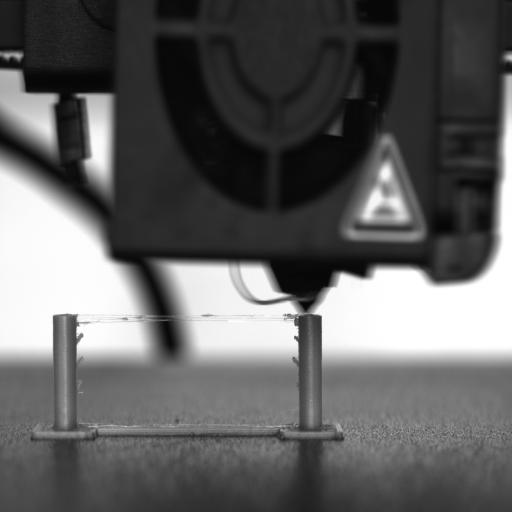spaghetti_and_stringing: (76, 311, 299, 329), (74, 351, 86, 370), (73, 330, 85, 346), (289, 352, 299, 367), (76, 374, 84, 392), (292, 333, 300, 345)
